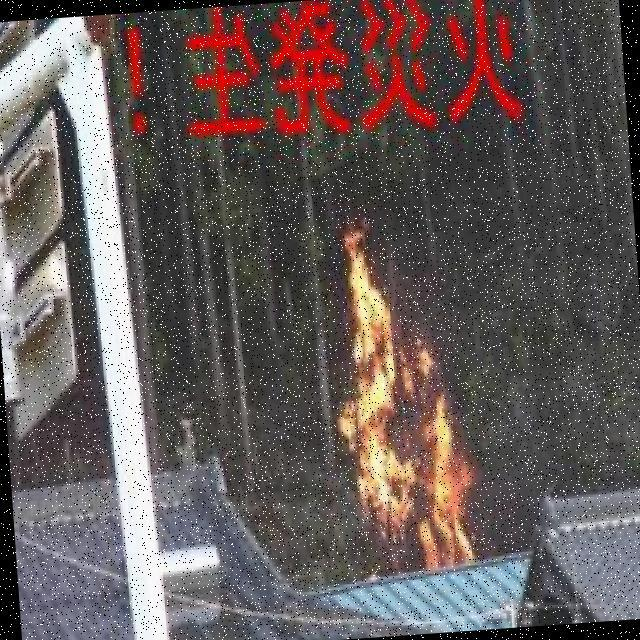Fire: (311, 214, 473, 584)
